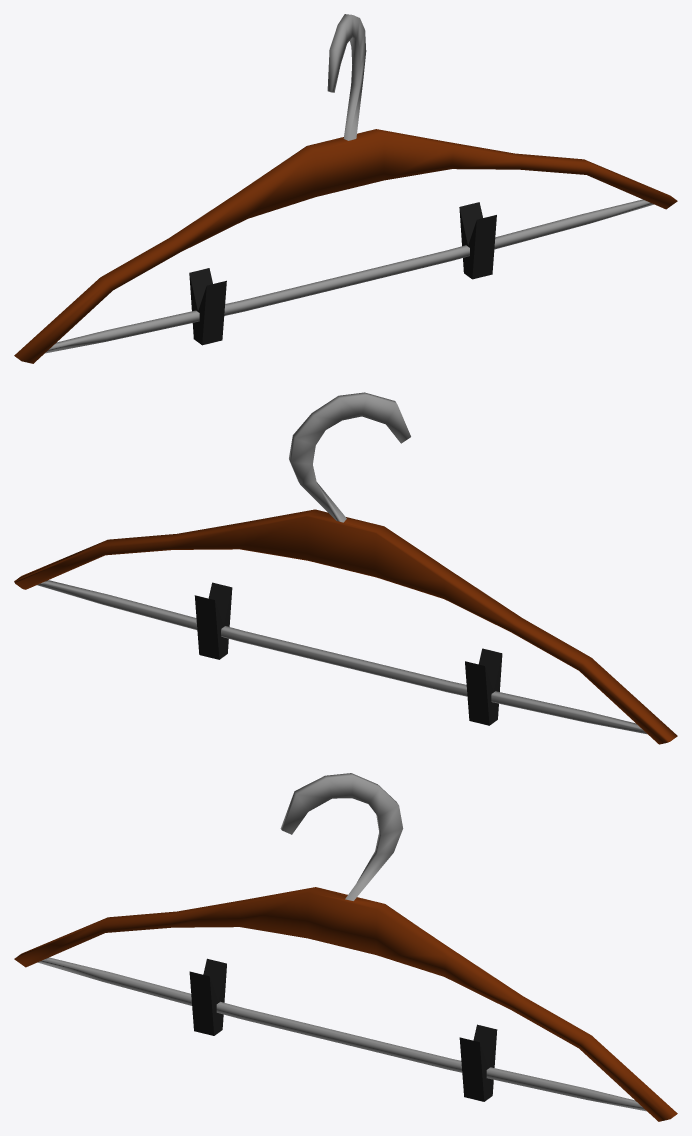
Rendered from hanger_clickable.glb.
3 views of the same model, one above another, from view 1: azimuth 30°, elevation 25°; view 2: azimuth 150°, elevation 25°; view 3: azimuth 330°, elevation 25° (orthographic).
Parts seen in each view (by area): view 1: shelf.001; view 2: shelf.001; view 3: shelf.001.
Boxes of the visible parts, box(x1,y1,x2,y2) form: shelf.001: box(14, 14, 677, 363); shelf.001: box(14, 392, 677, 744); shelf.001: box(14, 773, 677, 1121).
Size of what is drawn, in the model's own units: 0.9529 by 0.4018 by 0.117.
Materials: 1 (1 with a texture image).
